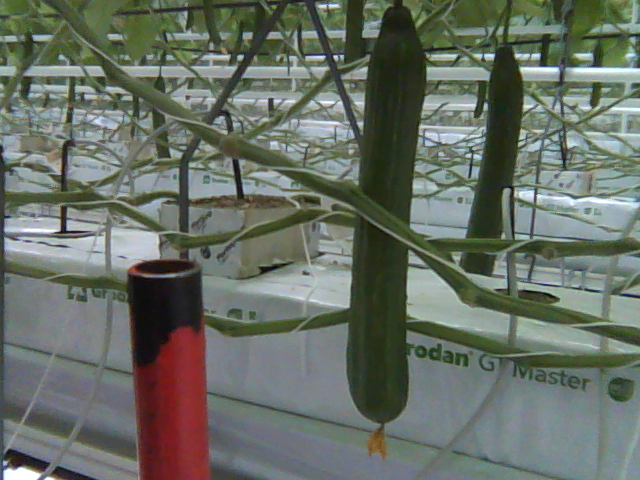concombre: (340, 1, 432, 458)
